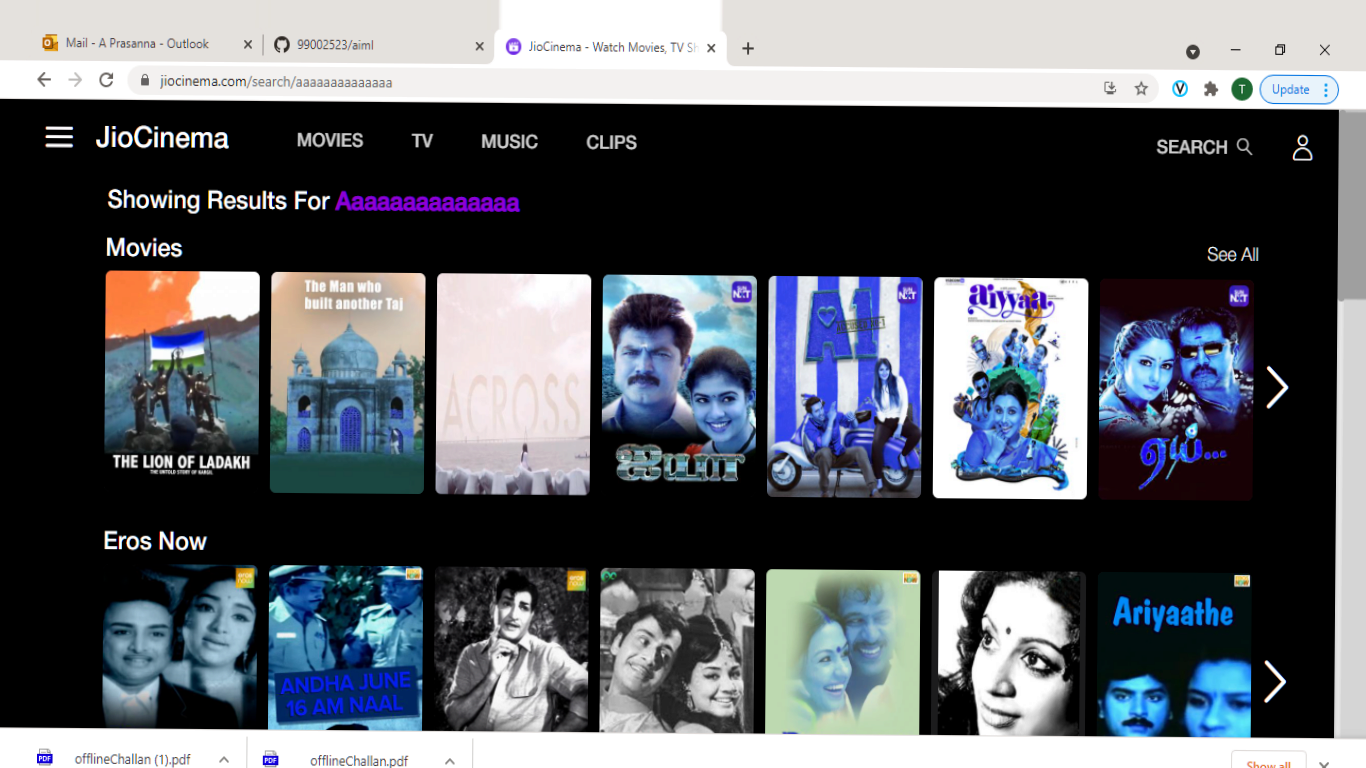noresultsfound: (99, 167, 540, 231)
profileicon: (1285, 124, 1319, 165)
searchicon: (1148, 134, 1258, 161)
